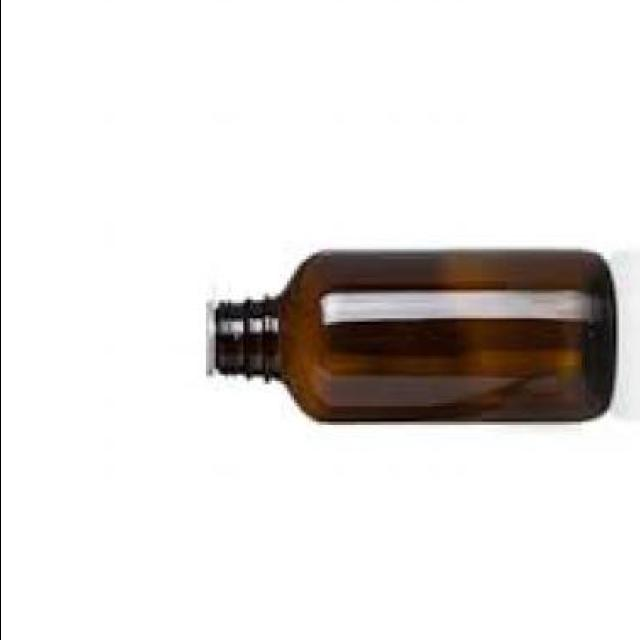kaca: (212, 247, 614, 422)
